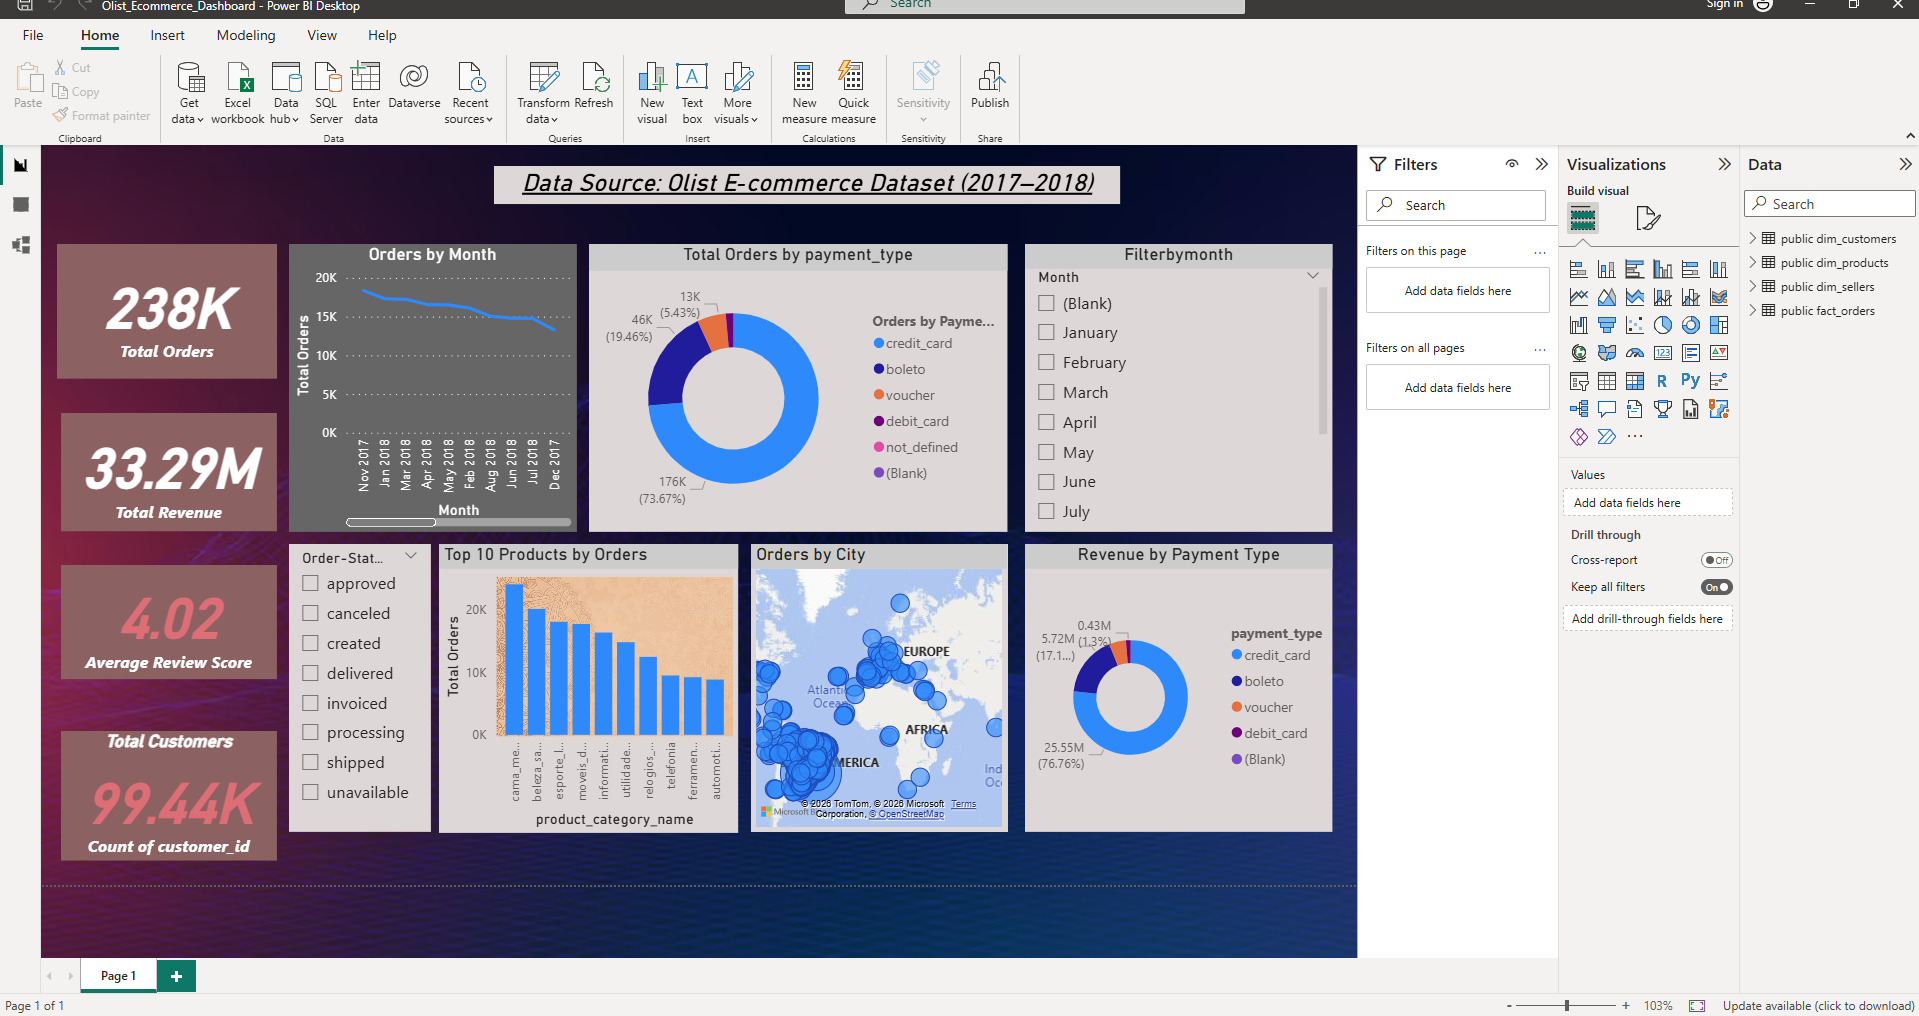

What the dashboard file says about the page in this screenshot:
{"tool":"powerbi","page":{"name":"Page 1","canvas":[1280,720],"ordinal":0},"visuals":[{"type":"card","fields":{"Values":["public dim_customers.Total Orders"]},"box":[15.6,96,213.9,131.4],"z":0},{"type":"card","fields":{"Values":["public dim_customers.Total Revenue"]},"box":[19.8,260.8,209.7,114.8],"z":1000},{"type":"card","fields":{"Values":["public fact_orders.Average Review Score"]},"box":[19.8,408.9,209.7,110.6],"z":2000},{"type":"lineChart","title":"Orders by Month","fields":{"Y":["public dim_customers.Total Orders"],"Category":["public fact_orders.Order Month"]},"box":[253.5,96,279.6,279.6],"z":3000},{"type":"donutChart","fields":{"Category":["public fact_orders.payment_type"],"Y":["public dim_customers.Total Orders"]},"box":[541.4,96,406.8,279.6],"z":4000},{"type":"slicer","fields":{"Values":["public fact_orders.order_status"]},"box":[241,388.1,137.7,279.6],"z":5000},{"type":"columnChart","title":"Top 10 Products by Orders","fields":{"Category":["public dim_products.product_category_name"],"Y":["public dim_customers.Total Orders"]},"box":[387,388.1,291.1,280.6],"z":6000},{"type":"card","title":"Total Customers","fields":{"Values":["Count(public dim_customers.customer_id)"]},"box":[19.8,569.6,209.7,126.2],"z":7000},{"type":"map","title":"Orders by City","fields":{"Category":["public dim_customers.customer_city"],"Size":["public dim_customers.Total Orders"]},"box":[678.1,388.1,278.5,281.7],"z":8000},{"type":"slicer","title":"Filterbymonth","fields":{"Values":["public fact_orders.order_delivered_customer_date.Variation.Date Hierarchy.Month"]},"box":[956.6,96,299.4,279.6],"z":9000},{"type":"donutChart","title":"Revenue by Payment Type","fields":{"Y":["public dim_customers.Total Revenue"],"Category":["public fact_orders.payment_type"]},"box":[956.6,388.1,299.4,281.7],"z":10000},{"type":"textbox","title":"Data Source: Olist E‑commerce Dataset (2017–2018)","box":[440.2,20.9,609.2,36.5],"z":11000}]}

Visuals, with their boxes on the page's 1280x720 design canvas (x1, y1, x2, y2). These are canvas units, not pixel positions in the 1919x1016 screenshot, which may show the page scaled, cropped or inside an application window:
card - public dim_customers.Total Orders: locate(16, 96, 230, 227)
card - public dim_customers.Total Revenue: locate(20, 261, 230, 376)
card - public fact_orders.Average Review Score: locate(20, 409, 230, 520)
"Orders by Month" lineChart: locate(254, 96, 533, 376)
donutChart - public fact_orders.payment_type x public dim_customers.Total Orders: locate(541, 96, 948, 376)
slicer - public fact_orders.order_status: locate(241, 388, 379, 668)
"Top 10 Products by Orders" columnChart: locate(387, 388, 678, 669)
"Total Customers" card: locate(20, 570, 230, 696)
"Orders by City" map: locate(678, 388, 957, 670)
"Filterbymonth" slicer: locate(957, 96, 1256, 376)
"Revenue by Payment Type" donutChart: locate(957, 388, 1256, 670)
"Data Source: Olist E‑commerce Dataset (2017–2018)" textbox: locate(440, 21, 1049, 57)
